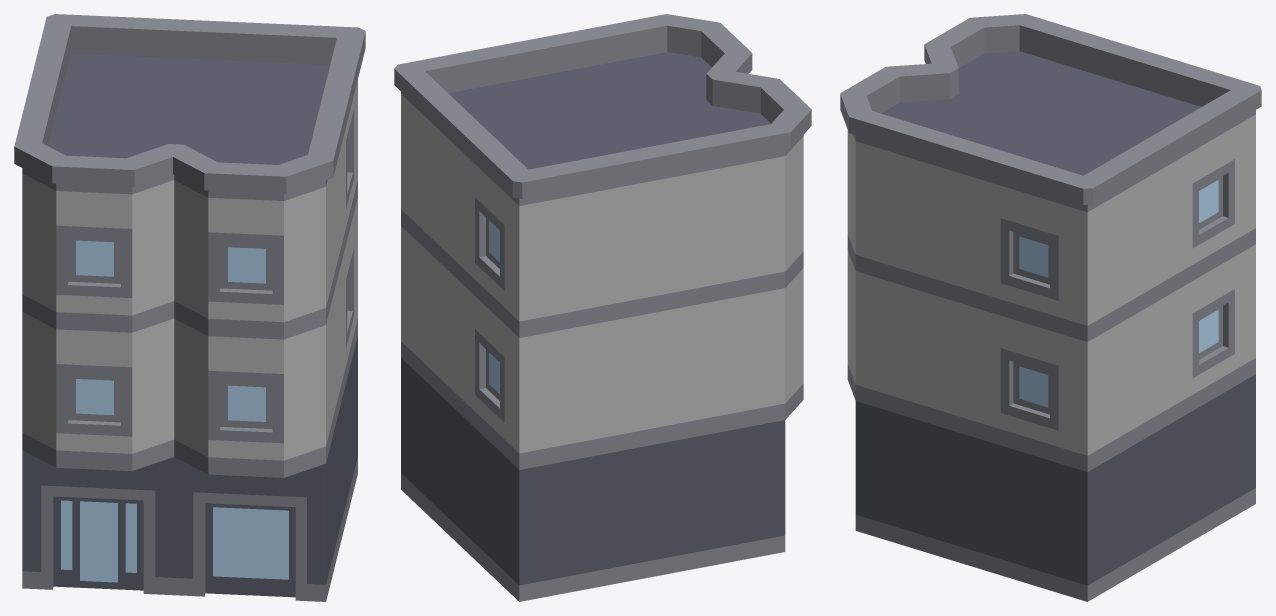
File: variant_20.fbx
The picture shows the model from 3 angles, left to right: view 1: azimuth 30°, elevation 25°; view 2: azimuth 150°, elevation 25°; view 3: azimuth 270°, elevation 25°; orthographic projection. The views are drawn at different scales.
Visible parts, largest first — view 1: small_buildingA; view 2: small_buildingA; view 3: small_buildingA.
Part boxes in pixels (left/top/right/bottom): small_buildingA: left=14, top=14, right=365, bottom=601; small_buildingA: left=394, top=14, right=811, bottom=601; small_buildingA: left=840, top=14, right=1261, bottom=601.
Size of the model in its own units: 115 by 128 by 118.
